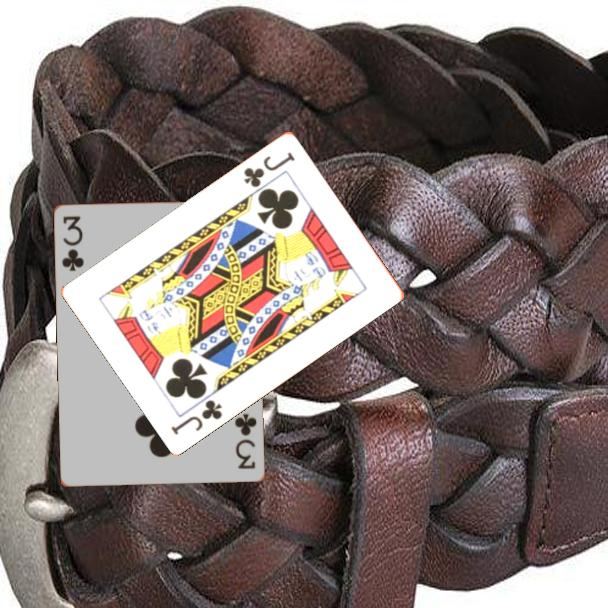c03: (58, 213, 87, 274), (232, 410, 260, 472)
c11: (240, 148, 298, 190), (167, 396, 225, 437)
